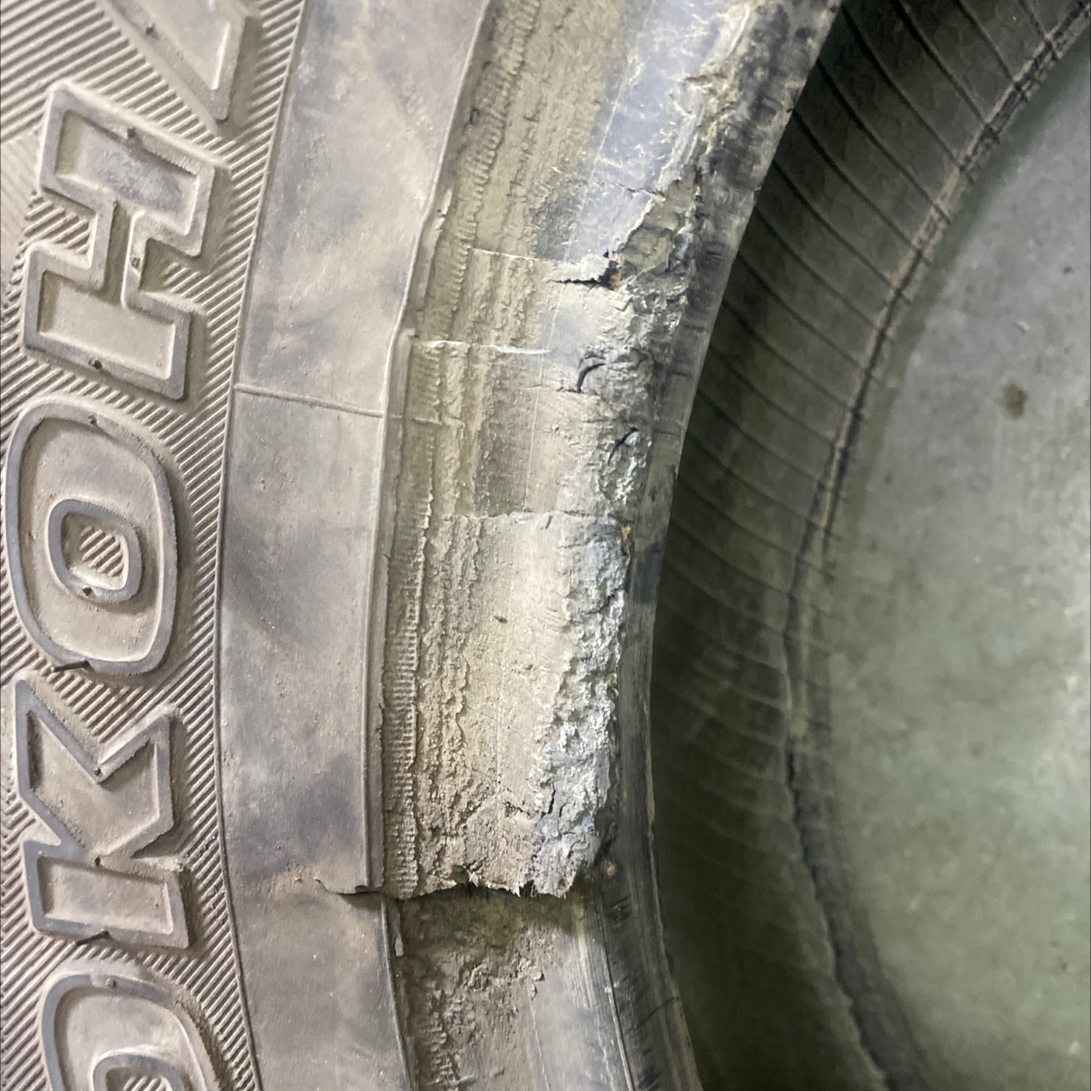bead_damage: (276, 6, 833, 1090)
